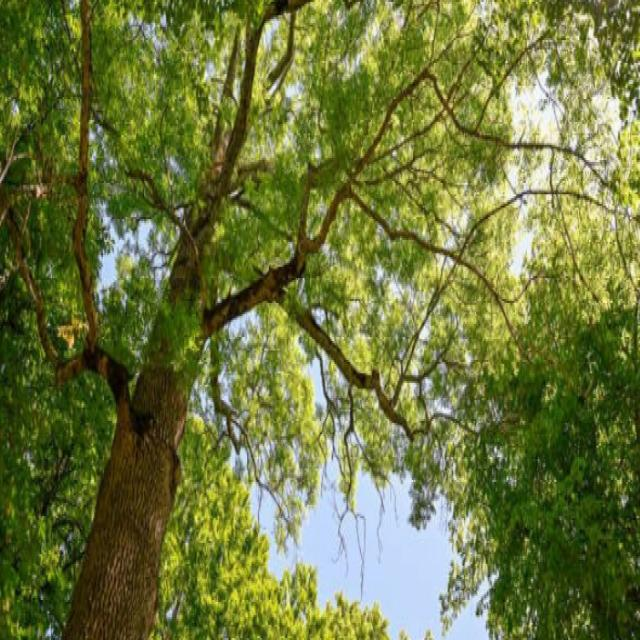Fraxinus latifolia: (0, 2, 638, 640)
